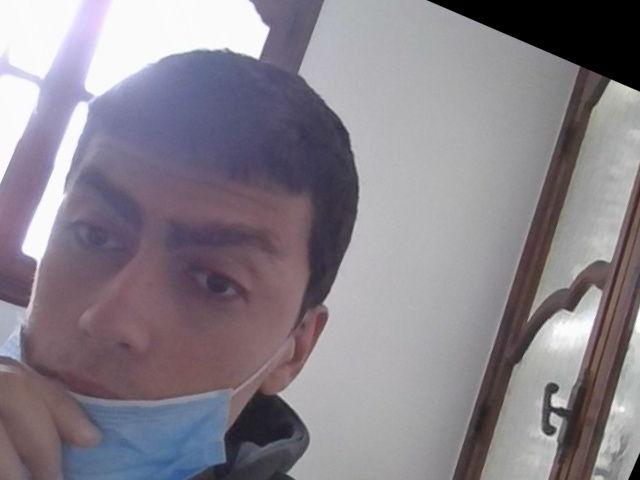mask_weared_incorrect: (6, 115, 323, 480)
